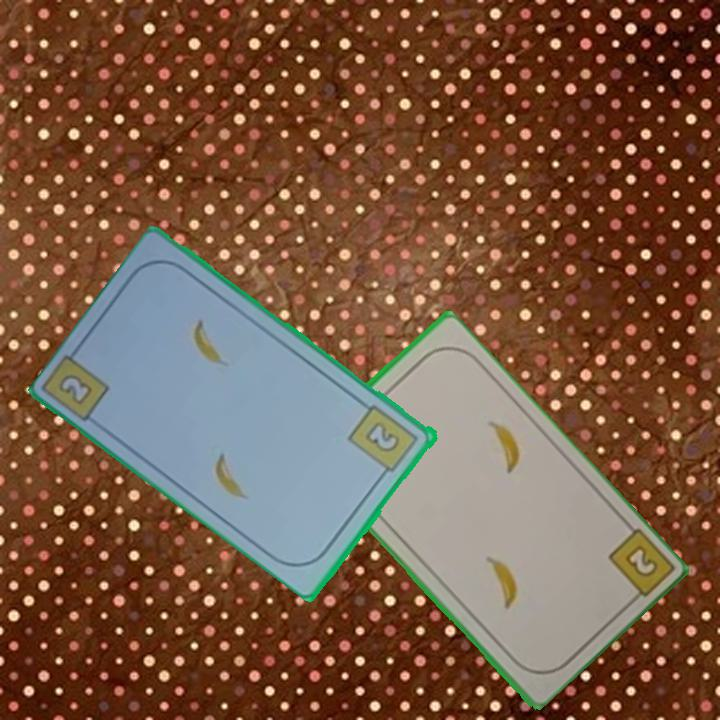2b: (345, 401, 422, 481), (603, 524, 674, 609), (55, 370, 97, 408)
